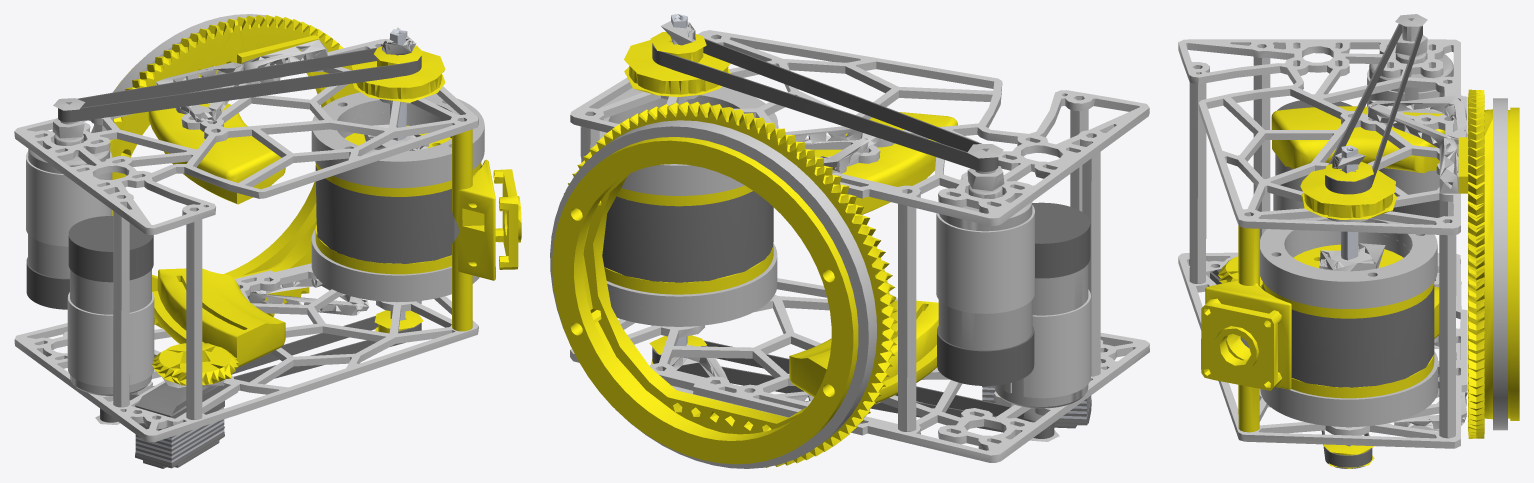
The picture shows the model from 3 angles, left to right: view 1: azimuth 30°, elevation 25°; view 2: azimuth 150°, elevation 25°; view 3: azimuth 270°, elevation 25°; orthographic projection. The views are drawn at different scales.
Visible parts, largest first — view 1: model_0.glb; view 2: model_0.glb; view 3: model_0.glb.
Part boxes in pixels (<box>): model_0.glb: <box>14,14,521,468</box>; model_0.glb: <box>550,14,1149,468</box>; model_0.glb: <box>1178,14,1519,468</box>.
Bounding box in the file's own units: 0.2088 × 0.1524 × 0.1438.
